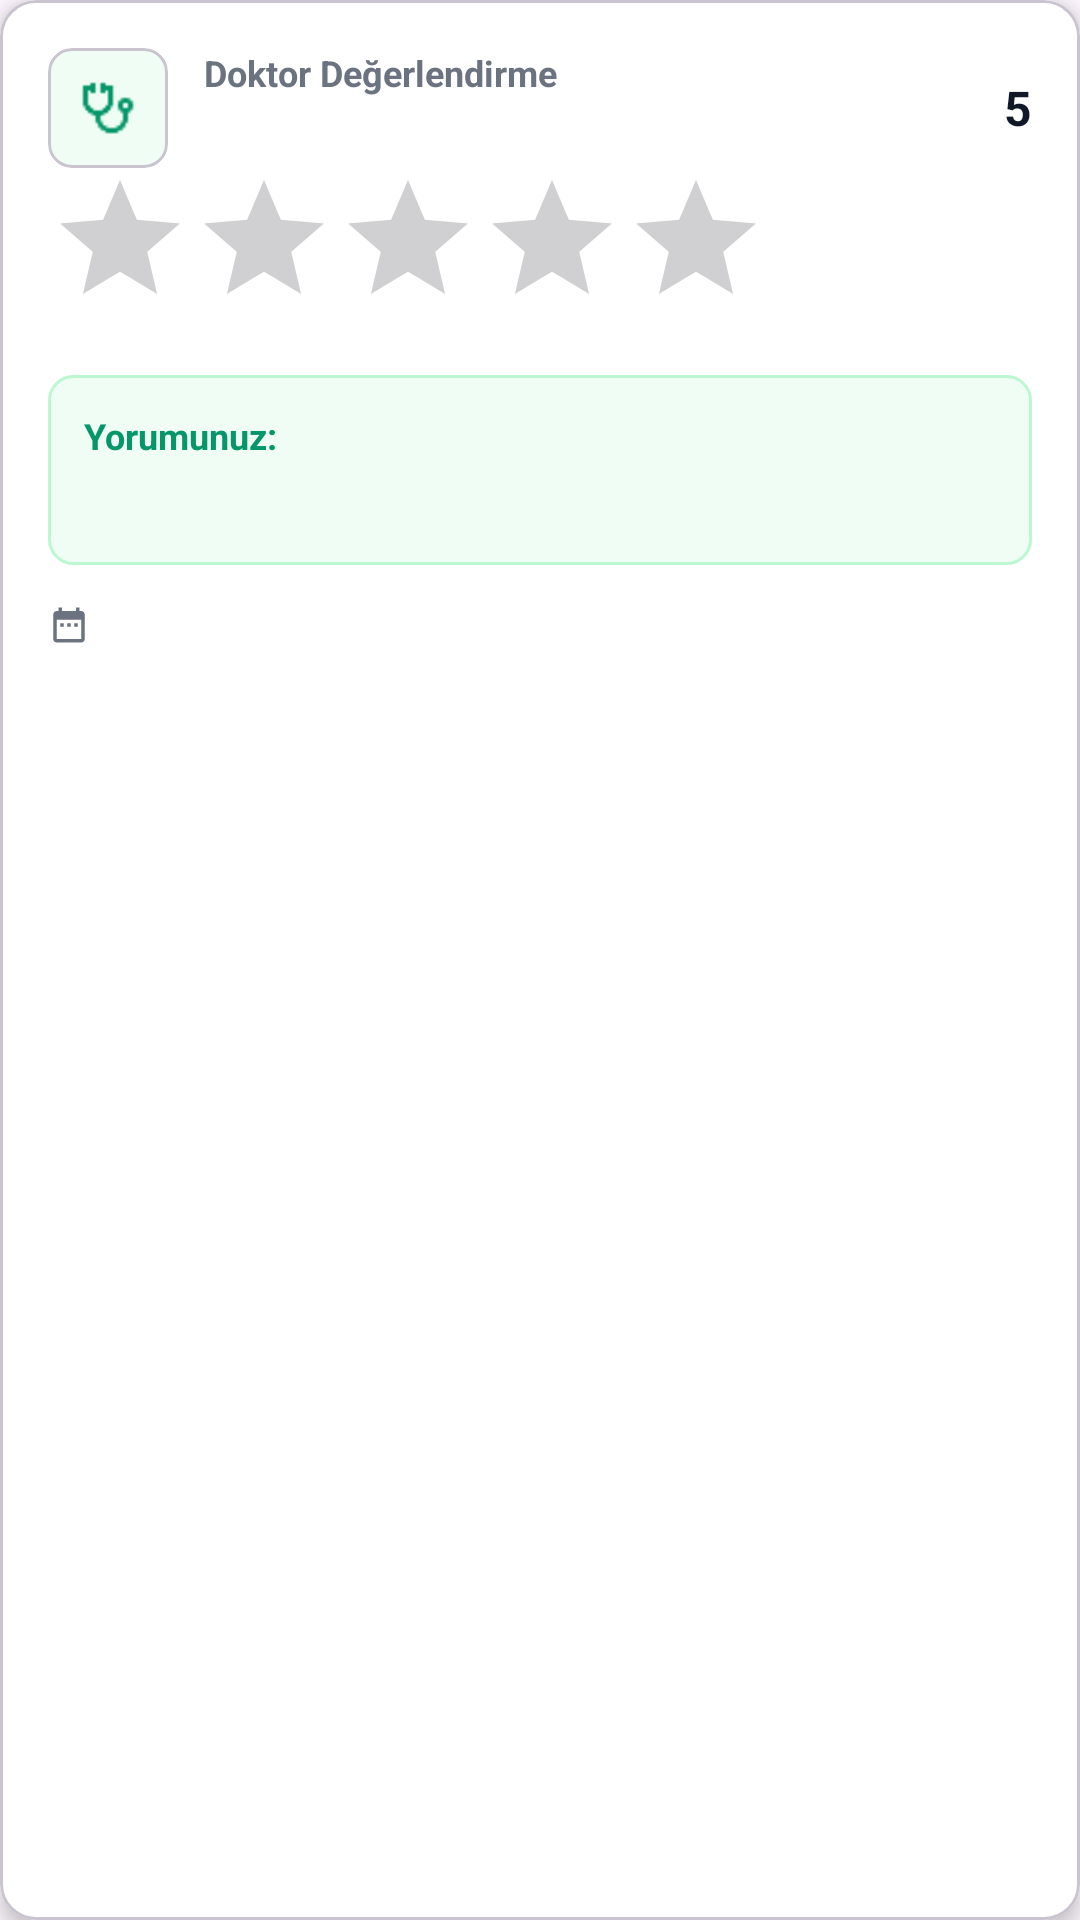

Icons on this 1080 × 1920 Android screen, each with the point to tap as (x,y):
calendar: (69,625)
doctor: (108,108)
